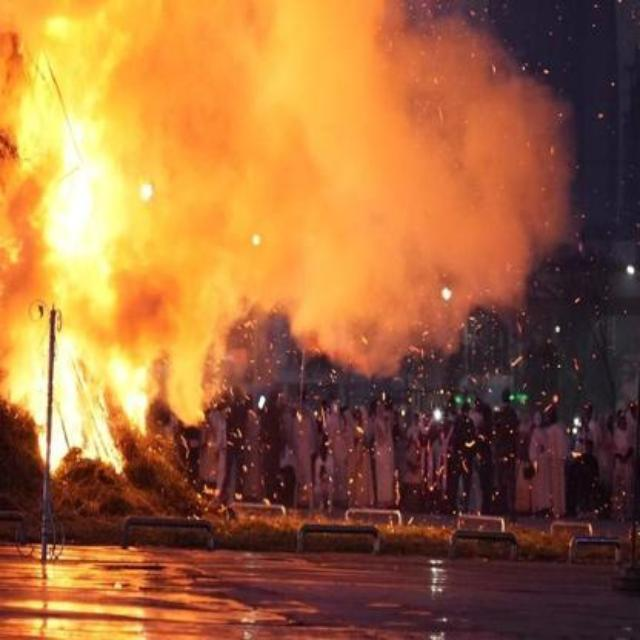Fire: (2, 1, 160, 476)
Smoke: (161, 2, 573, 394)
